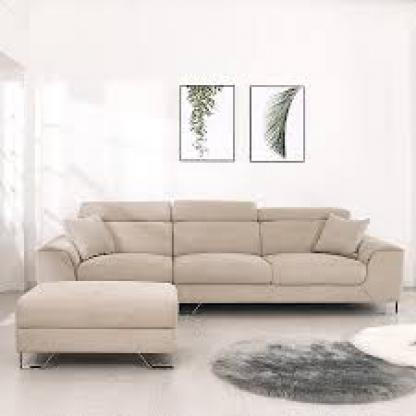sofa: (13, 194, 403, 368)
